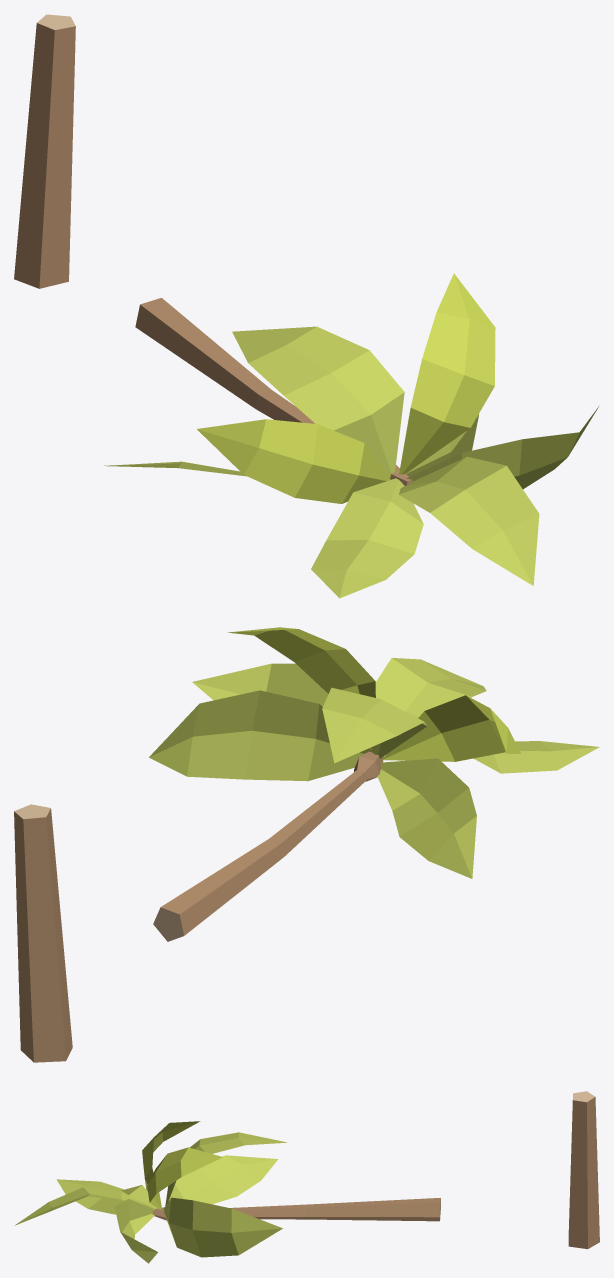
Rendered from Palm_Tree_crk_l_BT_01.fbx.
3 renders of one model, top to bottom at view 1: azimuth 30°, elevation 25°; view 2: azimuth 150°, elevation 25°; view 3: azimuth 270°, elevation 25°, orthographic. The views are drawn at different scales.
Parts seen in each view (by area): view 1: Palm_Tree_crk_l_BT_01; view 2: Palm_Tree_crk_l_BT_01; view 3: Palm_Tree_crk_l_BT_01.
Part boxes in pixels (x1,y1,x2,y2): Palm_Tree_crk_l_BT_01: (14,14,598,598); Palm_Tree_crk_l_BT_01: (14,627,599,1062); Palm_Tree_crk_l_BT_01: (15,1091,599,1263).
Bounding box in the file's own units: 476 × 289 × 1019.
